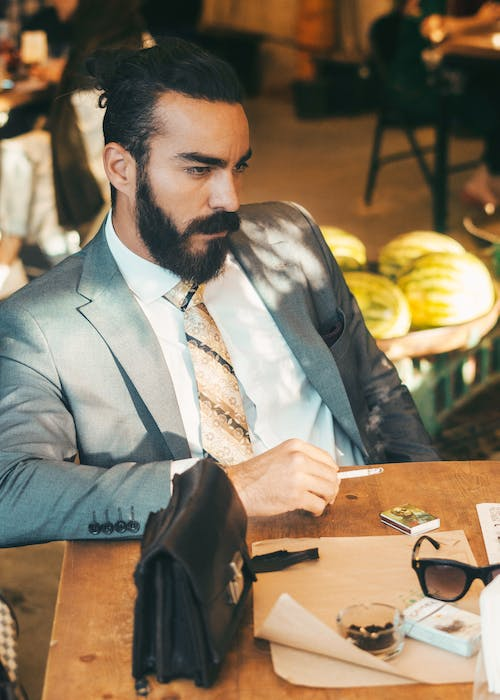cigarette: (335, 463, 386, 482)
